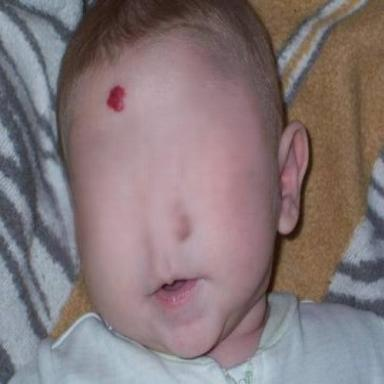Hemangiome: (107, 86, 125, 112)
